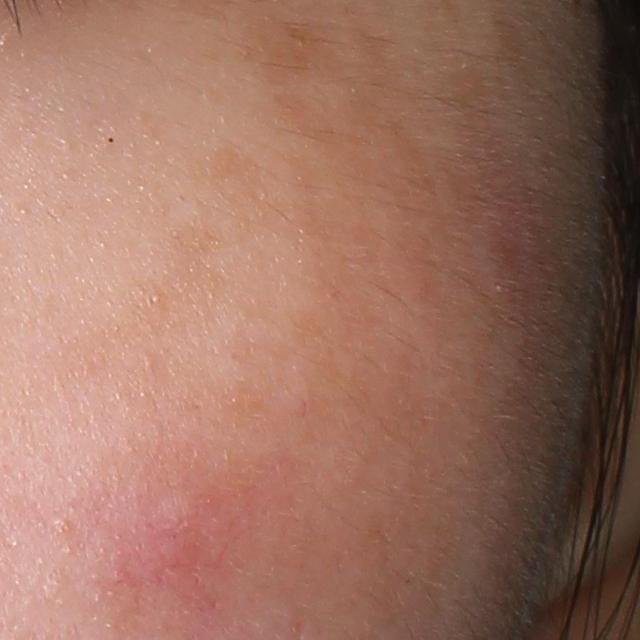comedo: (53, 518, 72, 536)
melasma: (338, 21, 411, 143), (202, 136, 259, 186)
